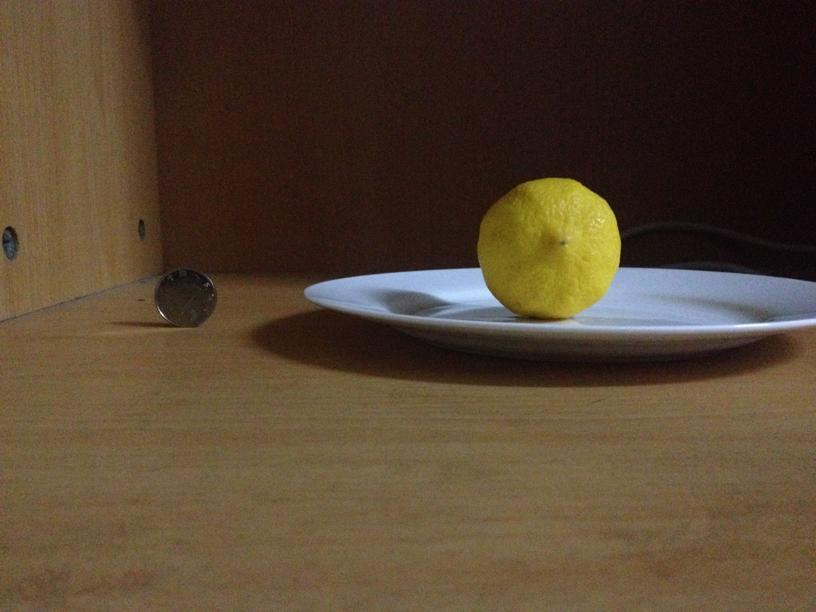coin: (152, 269, 219, 327)
lemon: (478, 179, 621, 319)
